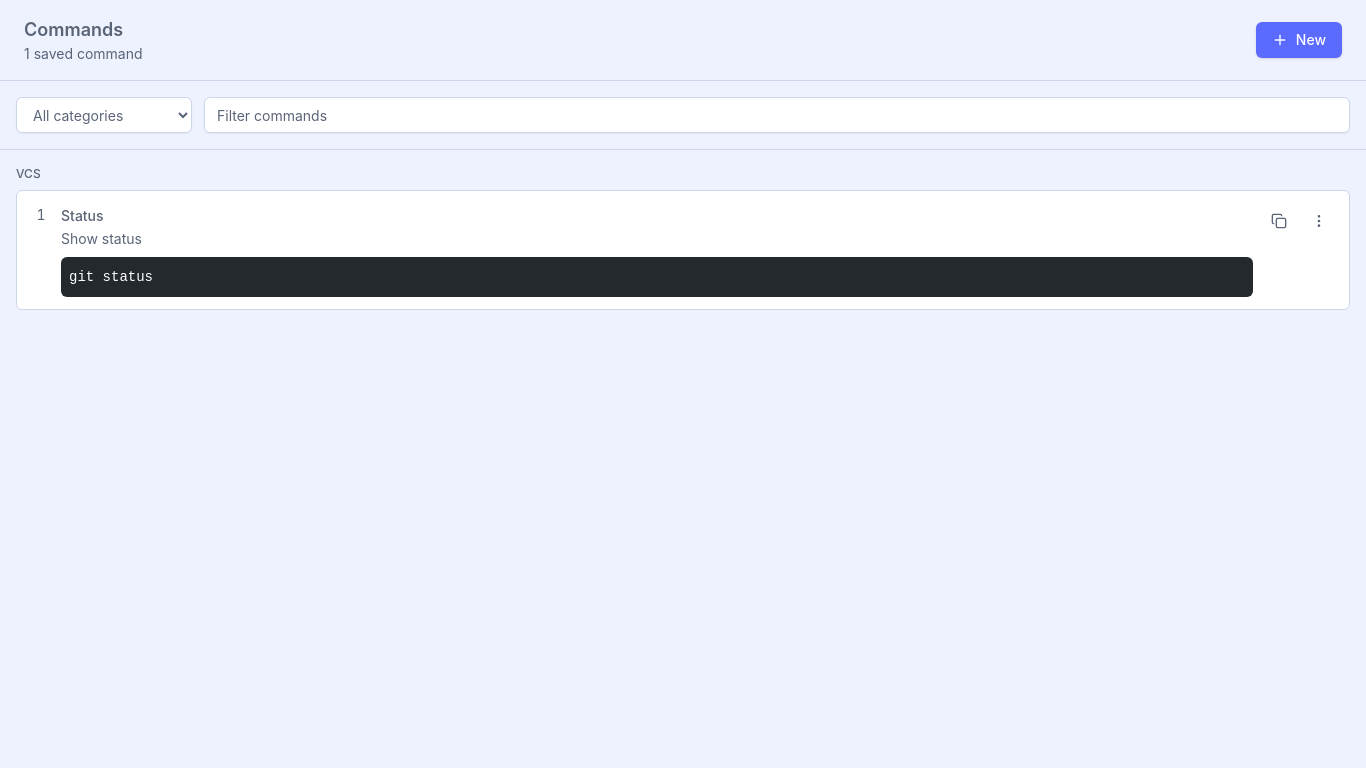
Test: CommandsListView › opens a command from its title and can cancel delete
Click the button "Status".
click(82, 216)  # box [61,206,104,226]
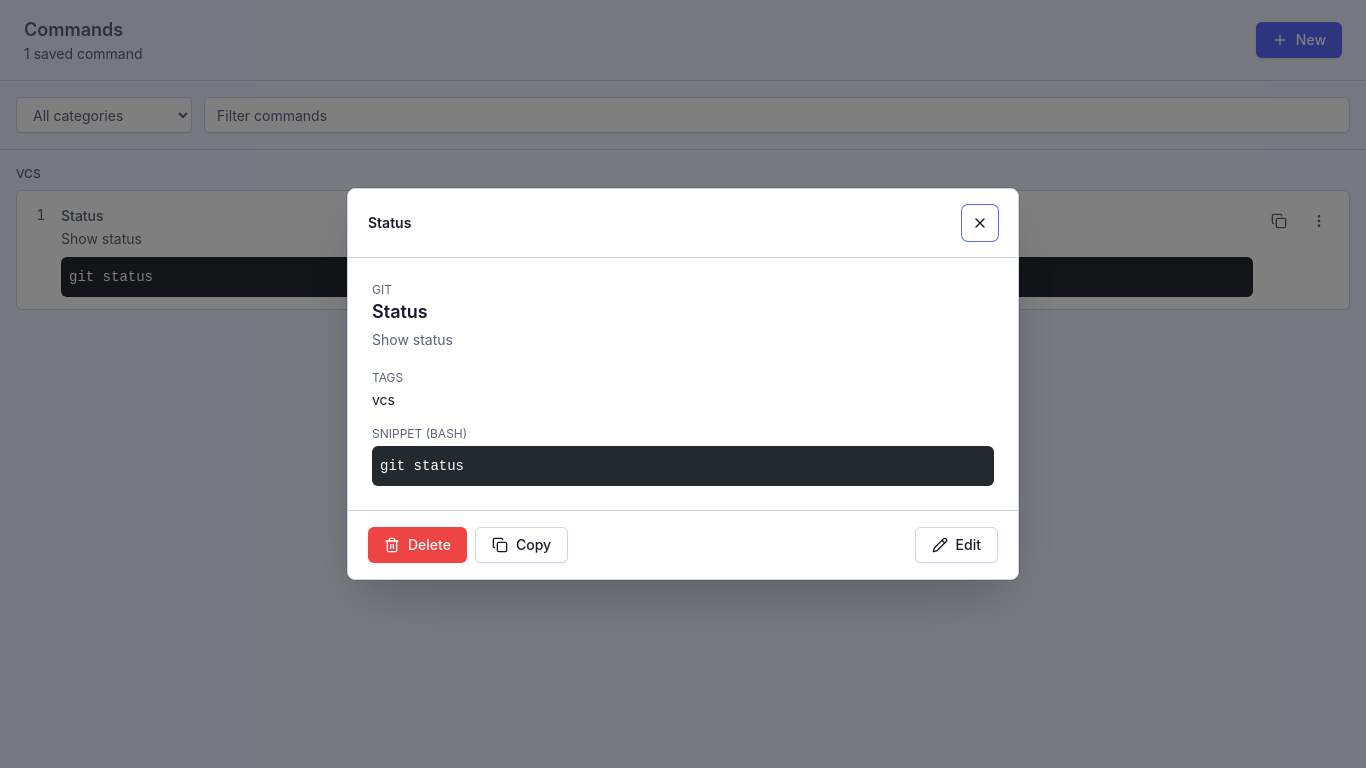
Expected: the dialog "Status" is shown, [347,188,1019,580]
Click the button named "Close details".
click(980, 223)  # box [962,205,998,241]
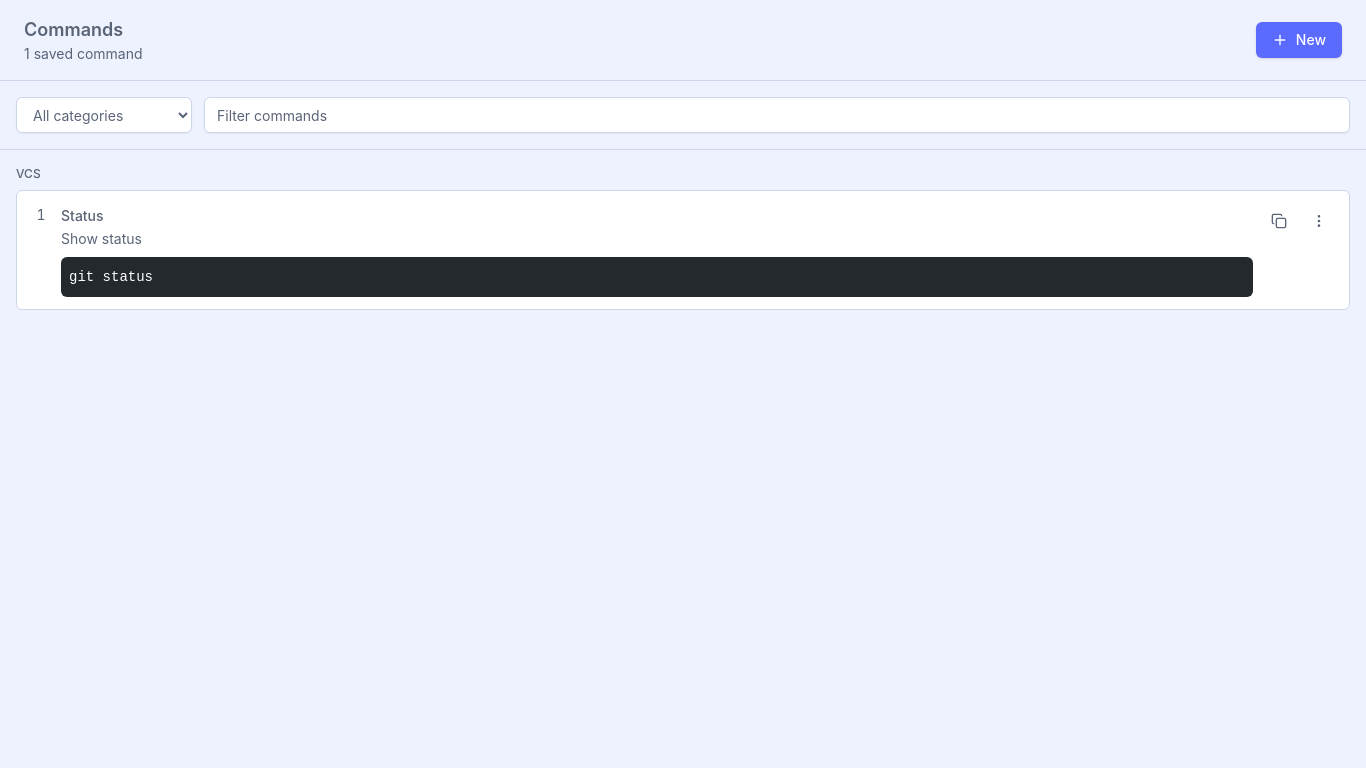
Click the button named "Actions for Status".
click(1319, 221)  # box [1301,203,1337,239]
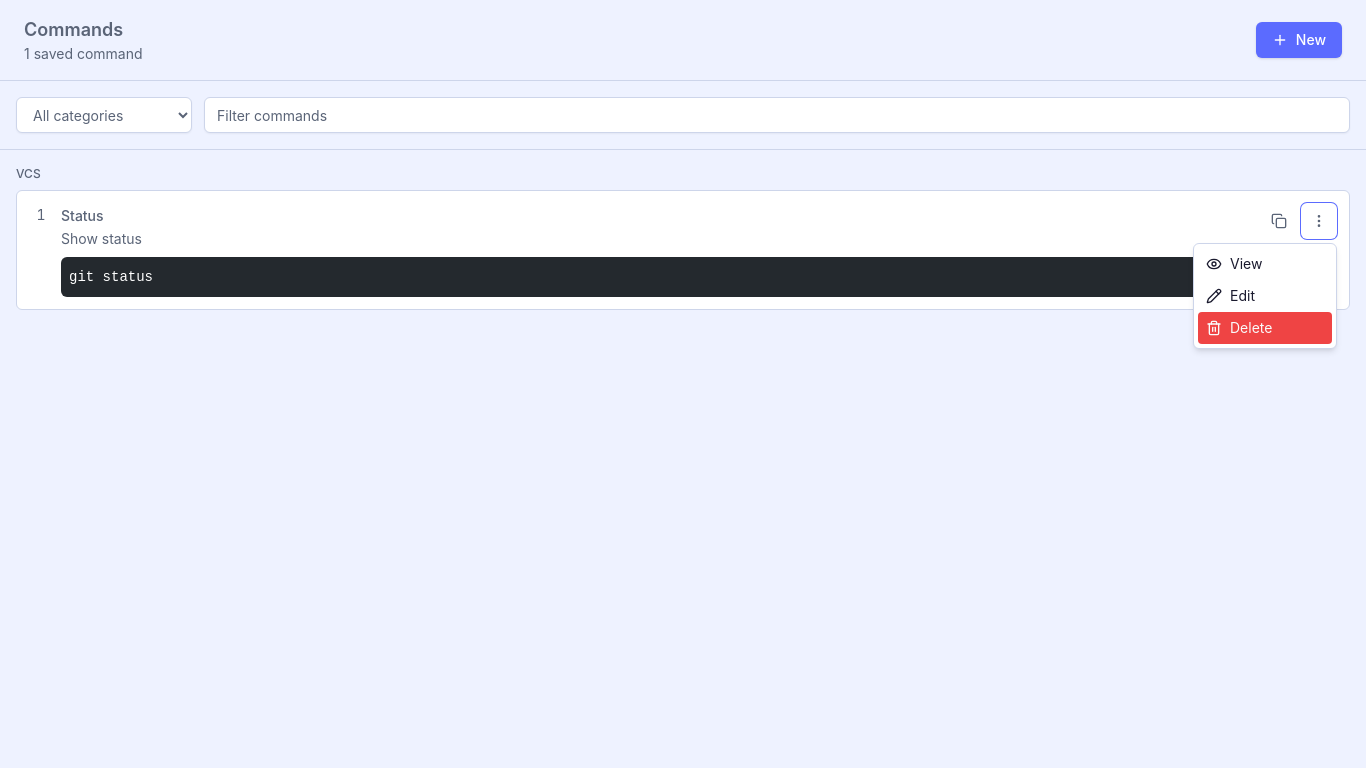
Click the menu item "Delete".
click(1265, 328)  # box [1198,312,1332,344]
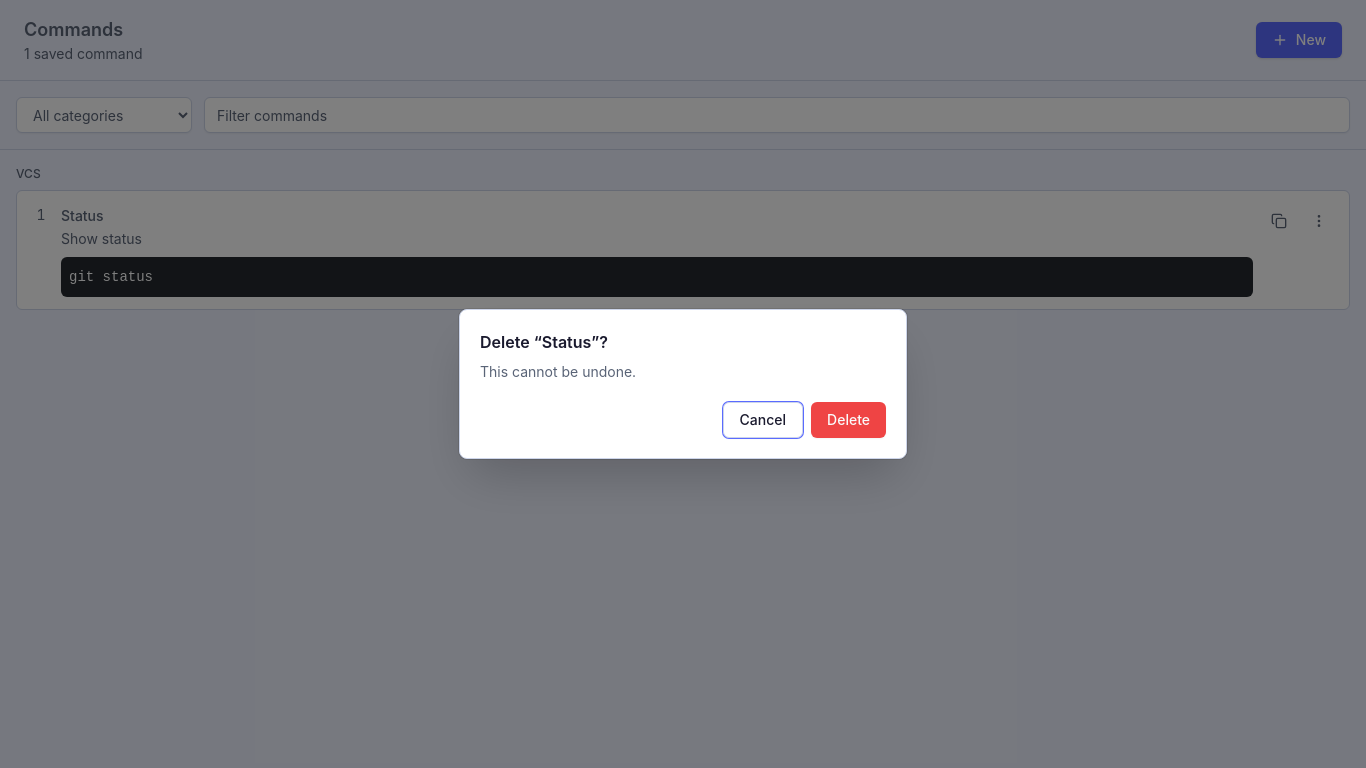
Expected: the dialog is shown, [459,309,907,459]
Press Escape
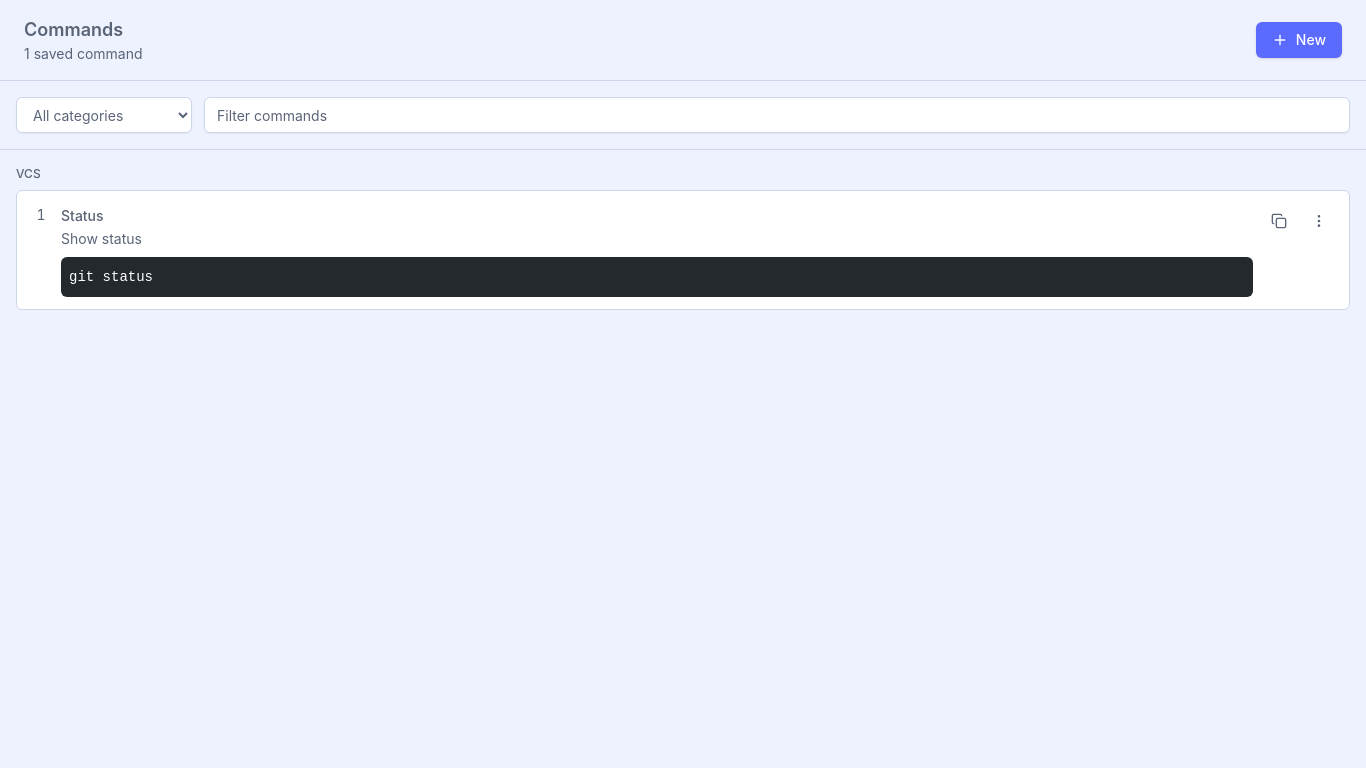
Expected: the button named "actions for status" is shown, [1301,203,1337,239]
Expected: the dialog is gone
